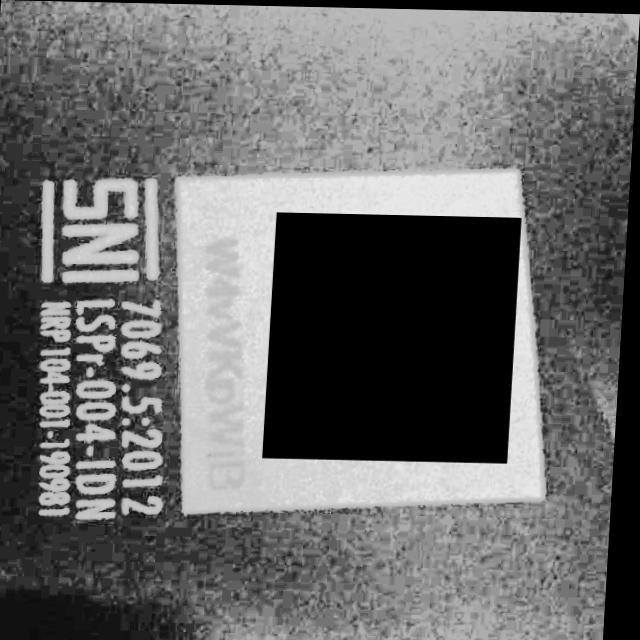qr_code: (267, 211, 523, 461)
